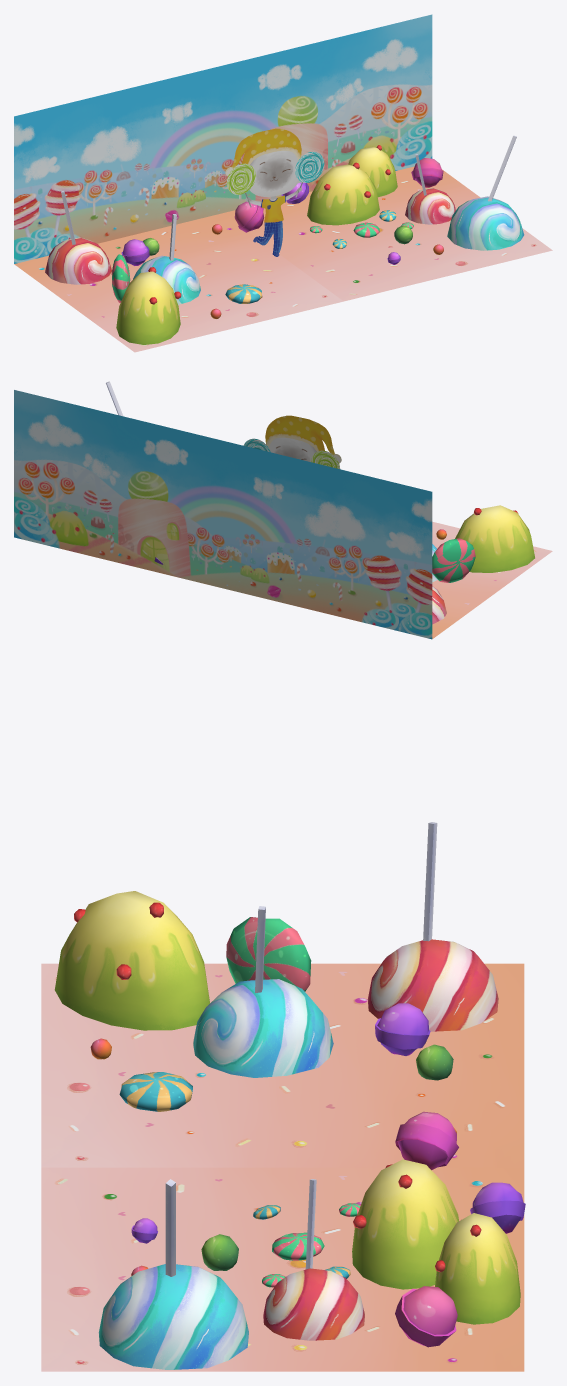
The picture shows the model from 3 angles, top to bottom: view 1: azimuth 30°, elevation 25°; view 2: azimuth 150°, elevation 25°; view 3: azimuth 270°, elevation 25°; orthographic projection. The views are drawn at different scales.
Visible parts, largest first — view 1: wallCandyLand_mesh, candies_mesh, floorCandyLand1_mesh, floorCandyLand2_mesh, happyBoy_mesh; view 2: wallCandyLand_mesh, candies_mesh, floorCandyLand1_mesh, happyBoy_mesh; view 3: candies_mesh, floorCandyLand1_mesh, floorCandyLand2_mesh.
Part boxes in pixels (left/top/right/bottom): wallCandyLand_mesh: left=14, top=14, right=432, bottom=263; candies_mesh: left=45, top=135, right=524, bottom=344; floorCandyLand1_mesh: left=14, top=213, right=343, bottom=352; floorCandyLand2_mesh: left=223, top=166, right=552, bottom=301; happyBoy_mesh: left=225, top=128, right=324, bottom=256; wallCandyLand_mesh: left=14, top=390, right=432, bottom=639; candies_mesh: left=106, top=381, right=534, bottom=624; floorCandyLand1_mesh: left=432, top=521, right=552, bottom=638; happyBoy_mesh: left=243, top=415, right=341, bottom=468; candies_mesh: left=54, top=822, right=525, bottom=1369; floorCandyLand1_mesh: left=41, top=963, right=524, bottom=1167; floorCandyLand2_mesh: left=41, top=1167, right=524, bottom=1371.
Size of the model in its own units: 2 by 0.6884 by 1.
